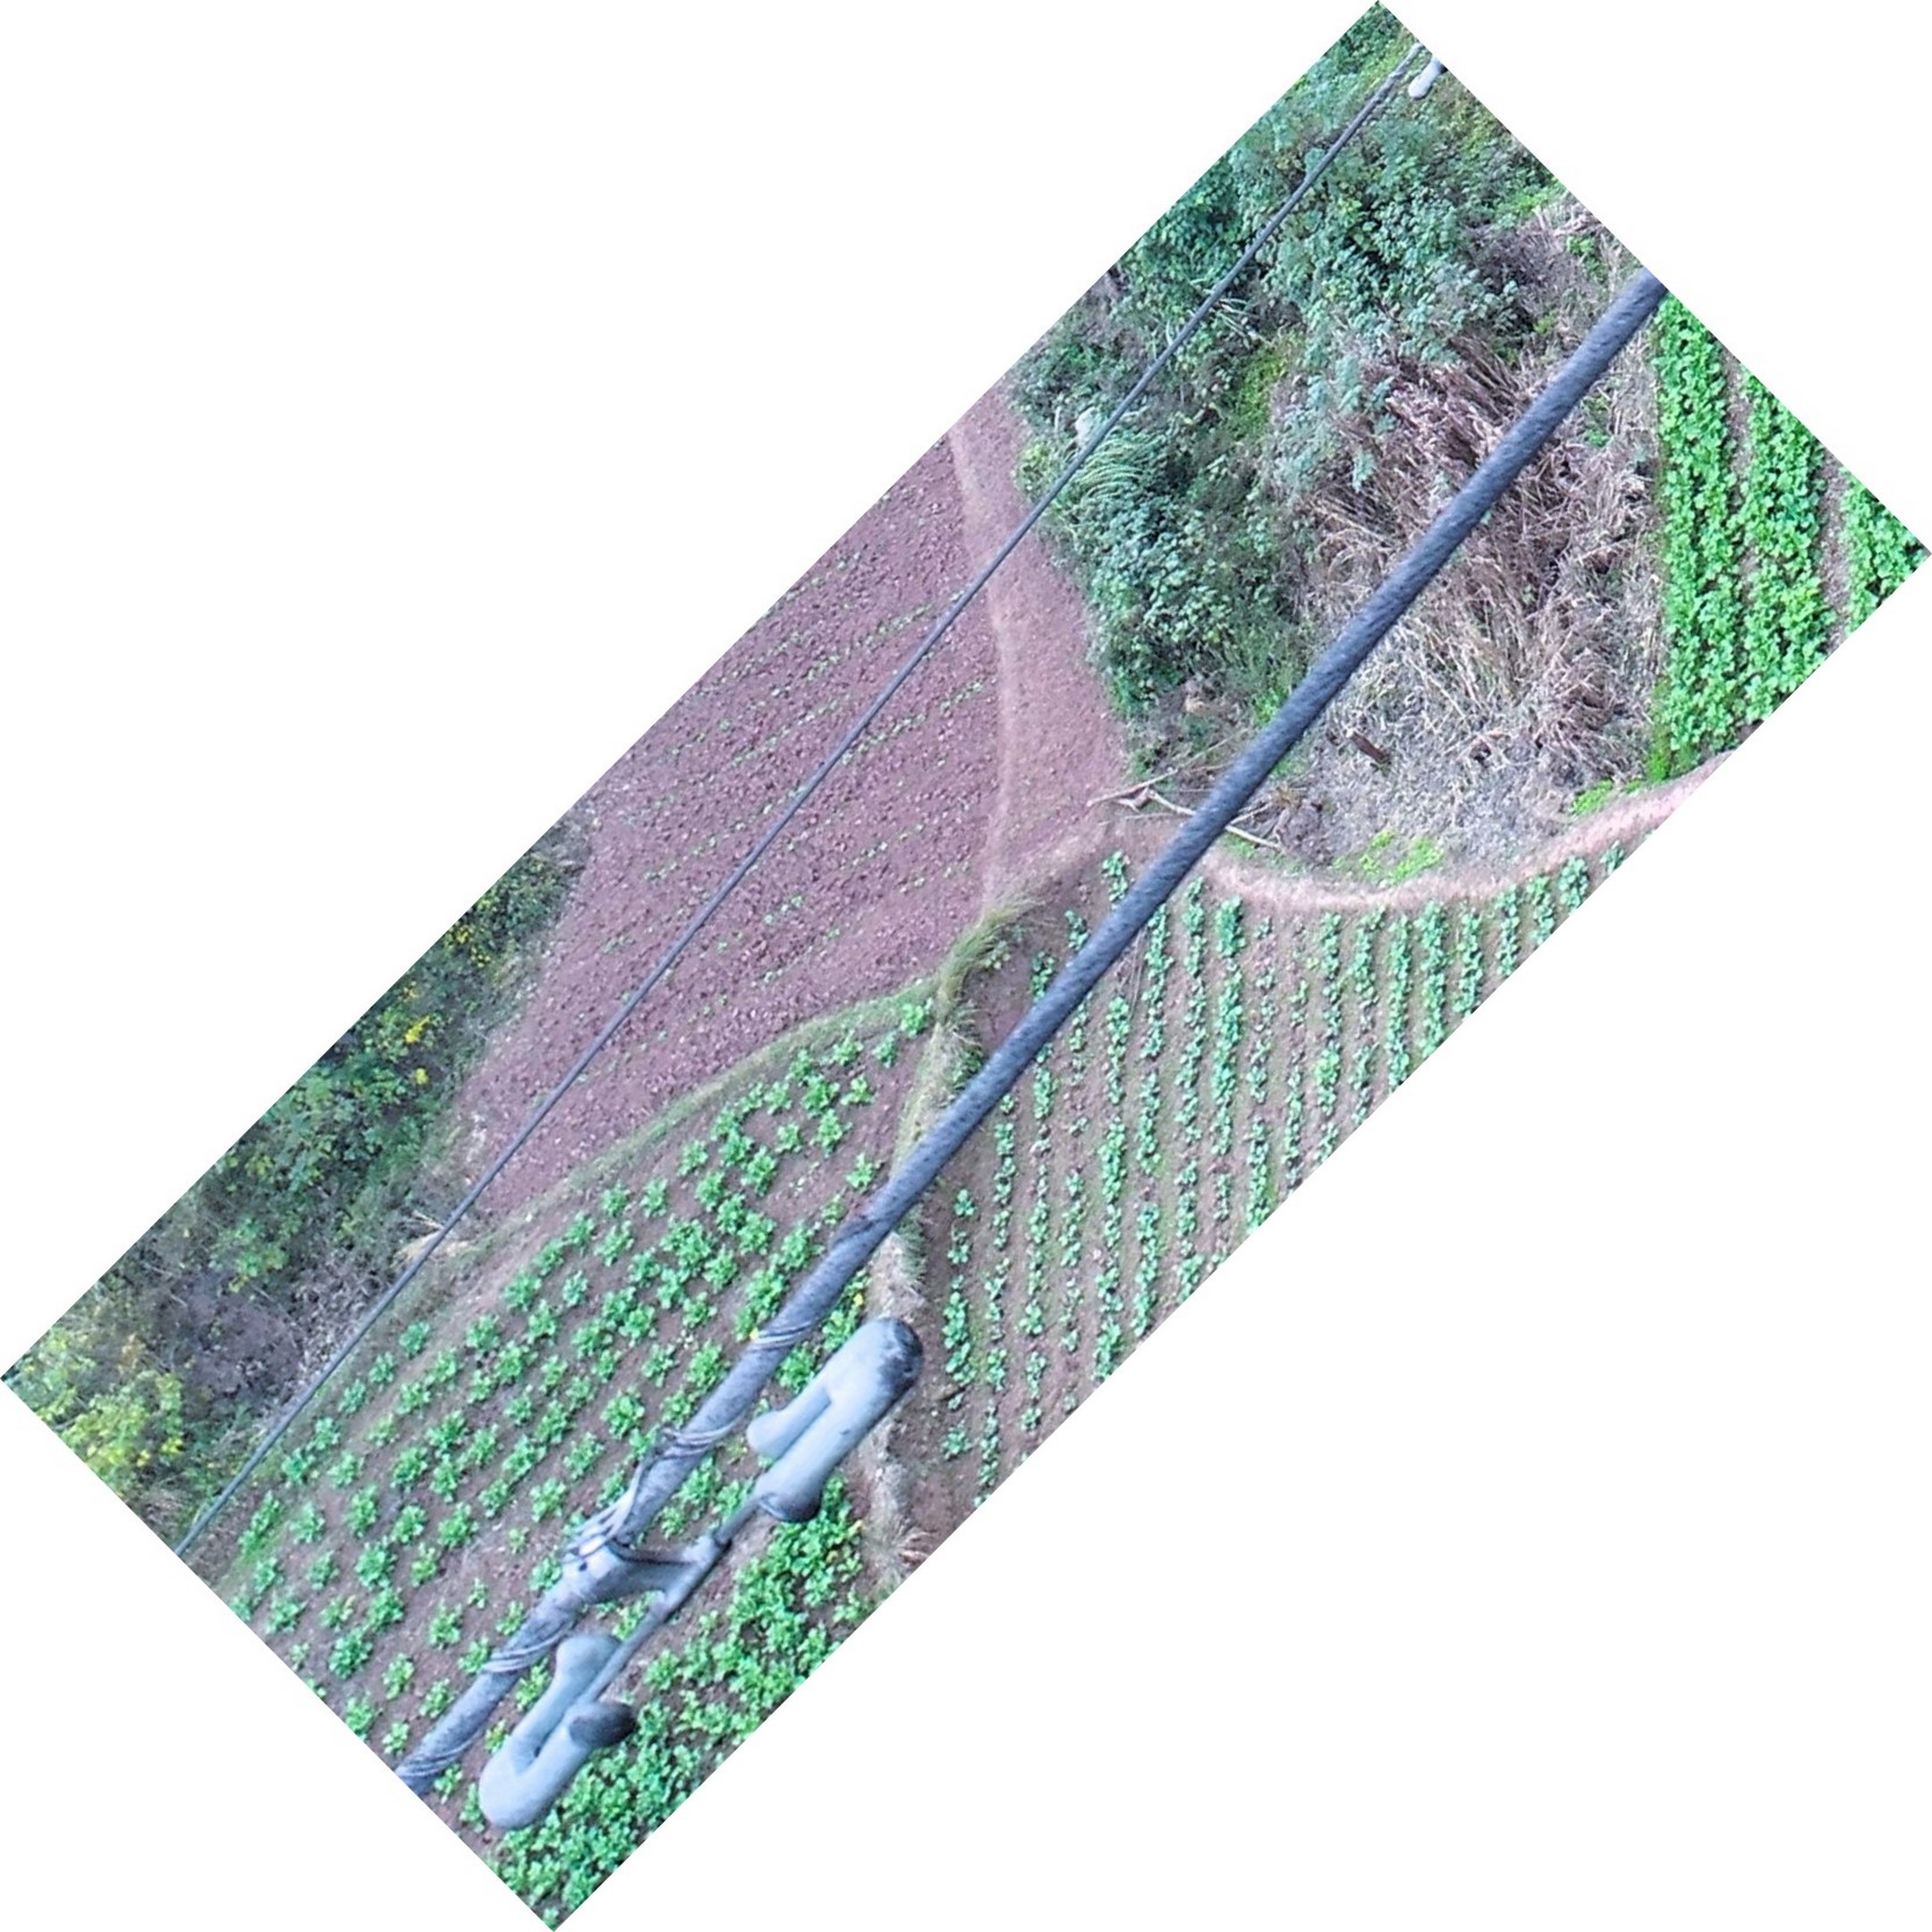Shockproof hammer: (460, 1274, 941, 1845)
